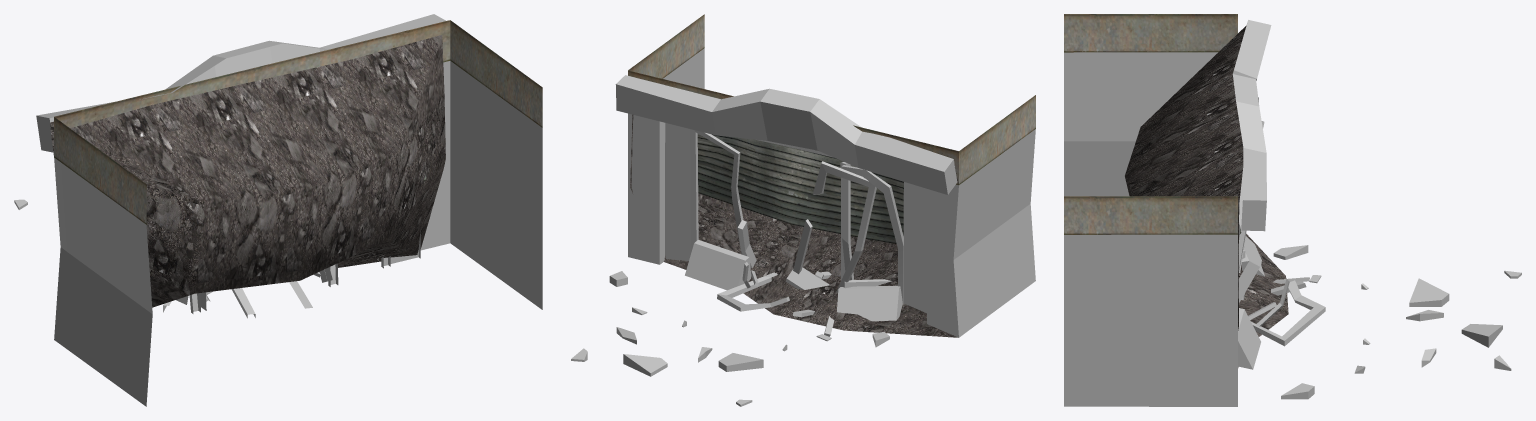
File: Store_front_21.fbx
The picture shows the model from 3 angles, left to right: view 1: azimuth 30°, elevation 25°; view 2: azimuth 150°, elevation 25°; view 3: azimuth 270°, elevation 25°; orthographic projection. The views are drawn at different scales.
Parts seen in each view (by area): view 1: Store_front_21; view 2: Store_front_21; view 3: Store_front_21.
Part boxes in pixels (bbox=[...]): Store_front_21: bbox=[14, 14, 542, 406]; Store_front_21: bbox=[571, 14, 1035, 406]; Store_front_21: bbox=[1064, 14, 1521, 406].
Bounding box in the file's own units: 701 × 412 × 743.
